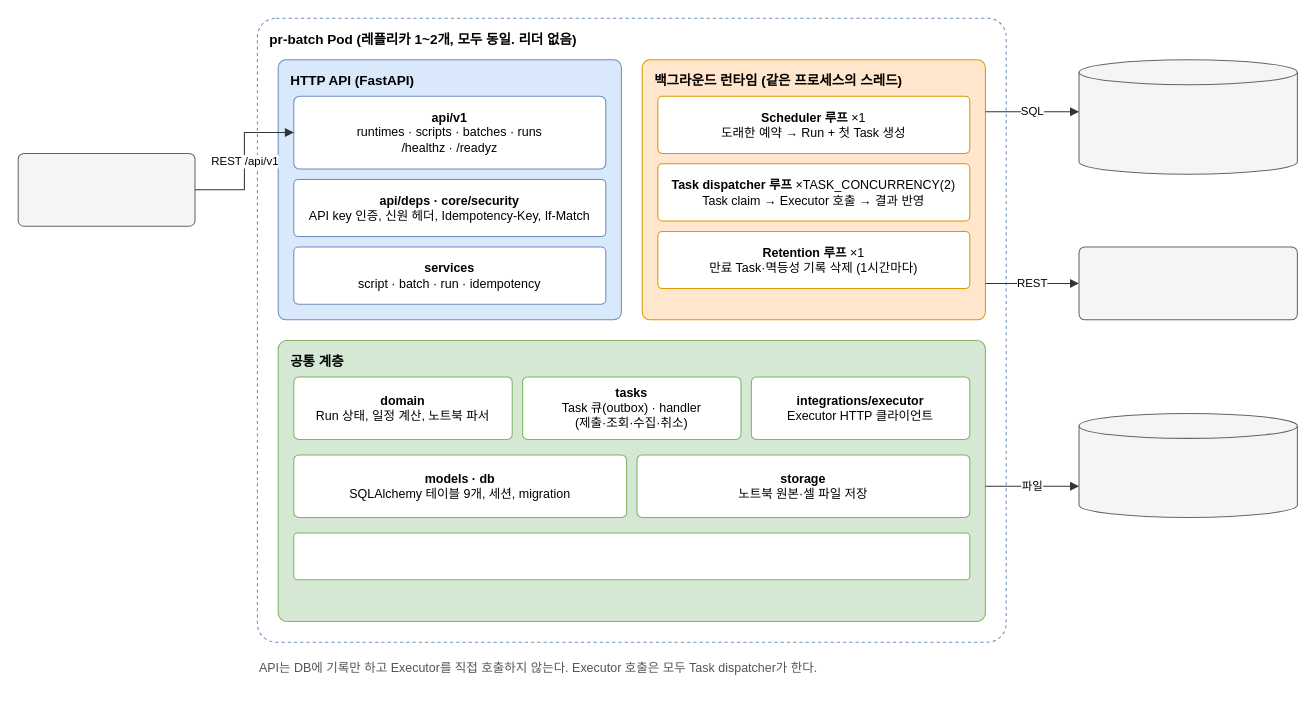
Image size: 1316x702. Some labels were removed from this diagram. Here are the shapes that lost their labels. From the top down, the centre of each, then its label:
At point 1187,116: "PostgreSQL batch 스키마 상태 저장 + 인스턴스 간 잠금".
At point 106,189: "호출 서비스 gaia-api-service 등".
At point 1187,283: "Executor 실행 · 상태 · 결과 · 취소".
At point 1187,464: "공유 스토리지 batch/inputs/…".
At point 631,556: "core 설정(config.yml) · 예외 · 미들웨어(감사 로그) · 로깅".
